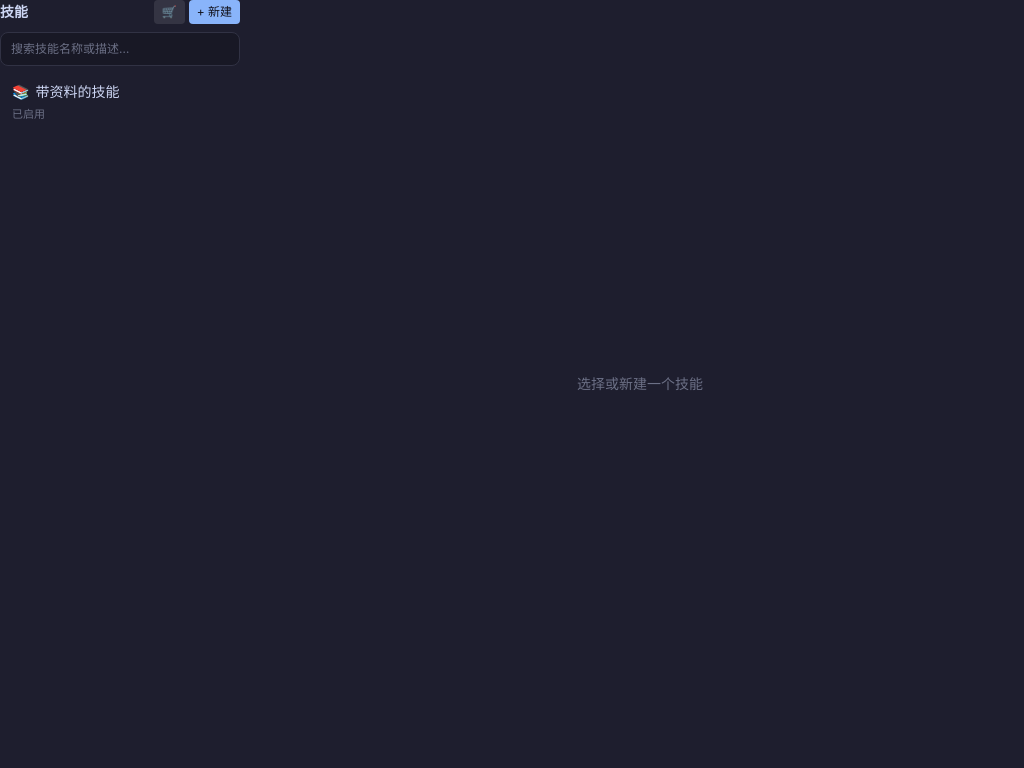
Test: 技能资源预览 › 点清单文件打开只读模态，展示内容、路径与校验状态
Step 1. Click the text "带资料的技能" → x=78, y=92, box [36,82,120,102]
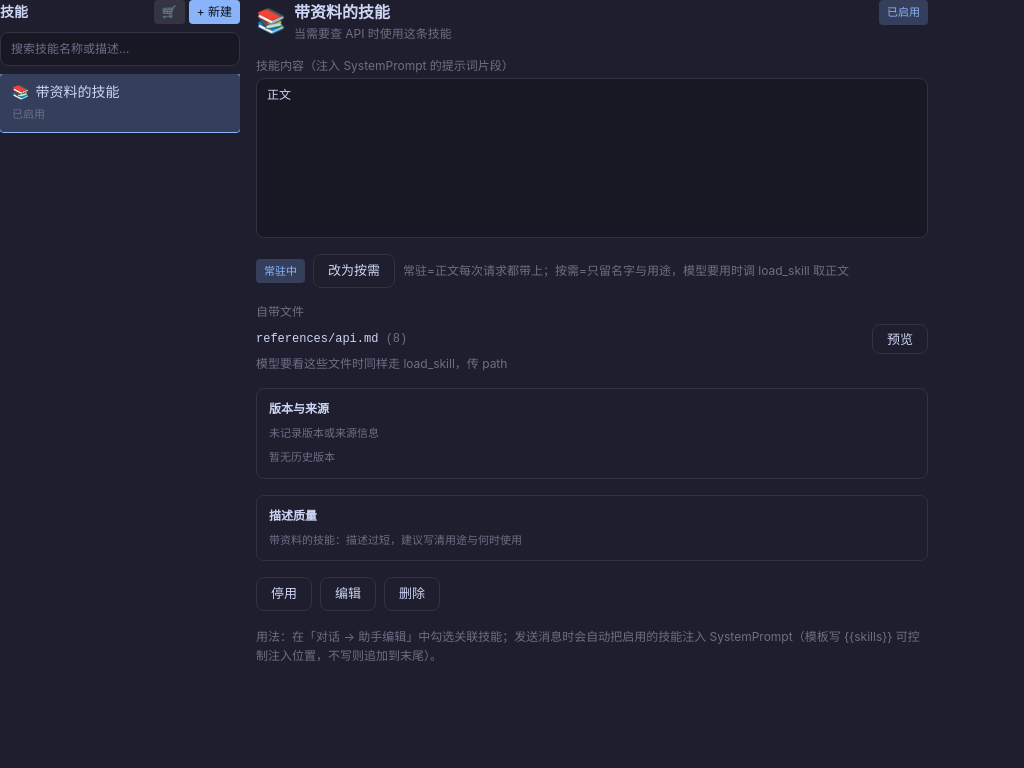
Check: the list with test id "skill-files-list" is shown, box [256,324,928,372]
Step 2. Click the button with test id "skill-file-preview" → x=900, y=338, box [872,324,928,354]
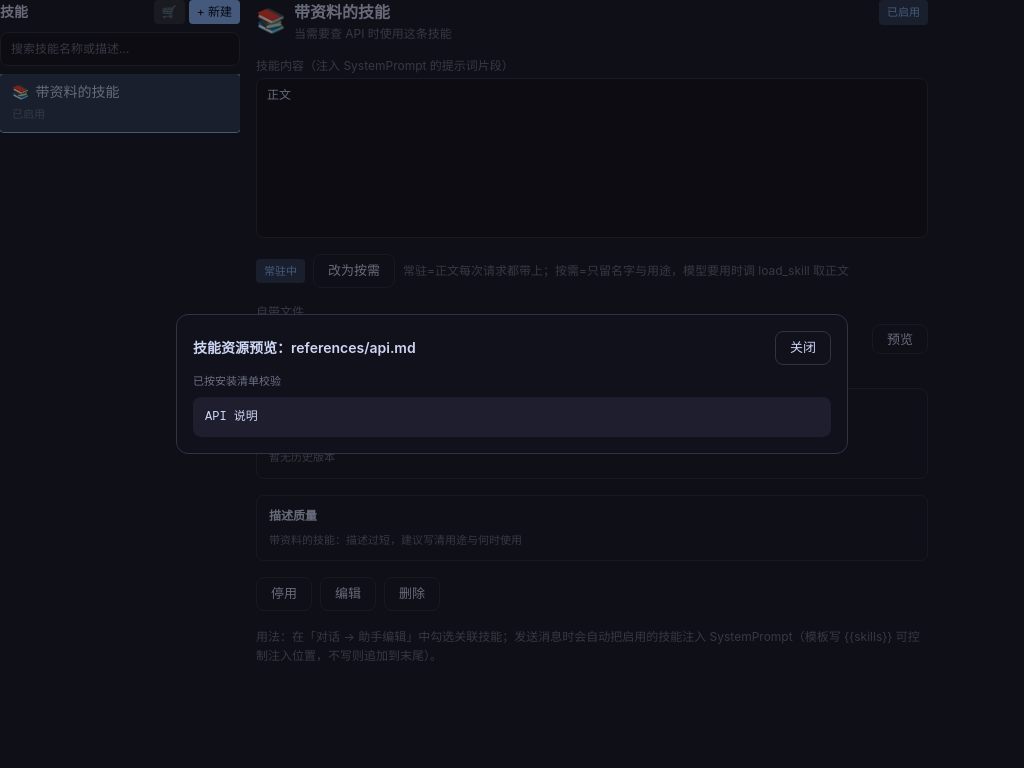
Check: the text with test id "skill-file-preview-content" reads "API 说明", box [205,410,258,424]
Check: the text "已按安装清单校验" is shown, box [193,374,281,388]
Step 3. Click the button with test id "skill-file-preview-close" → x=803, y=348, box [775,331,831,364]
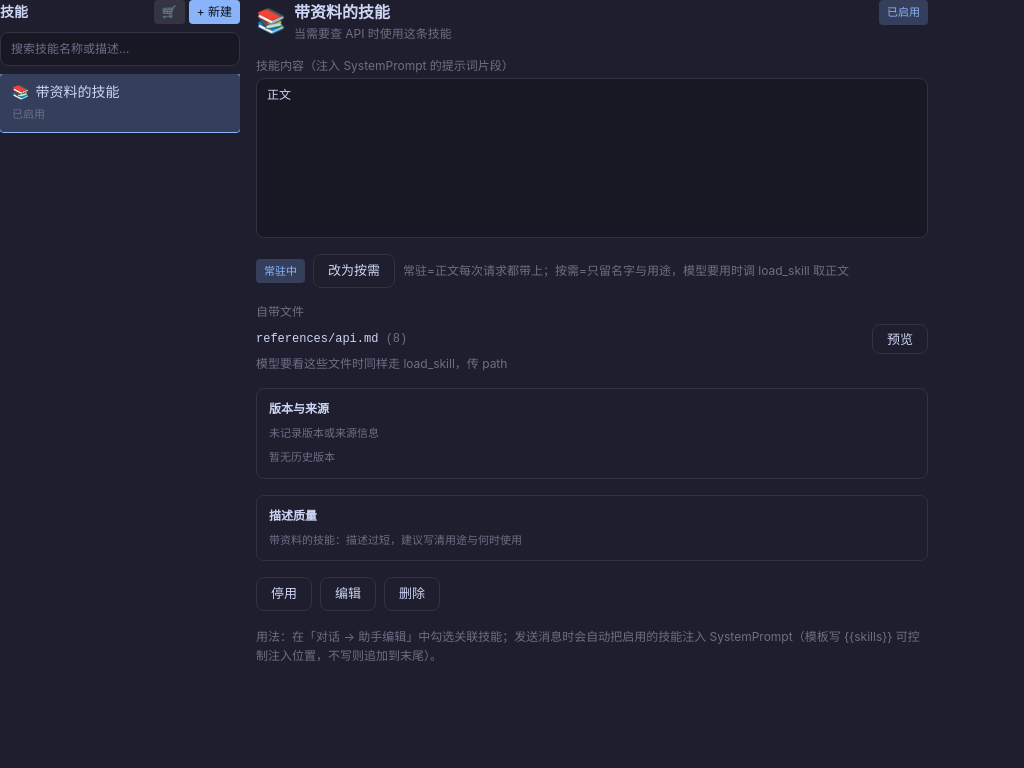
Check: the dialog with test id "skill-file-preview-modal" is gone
